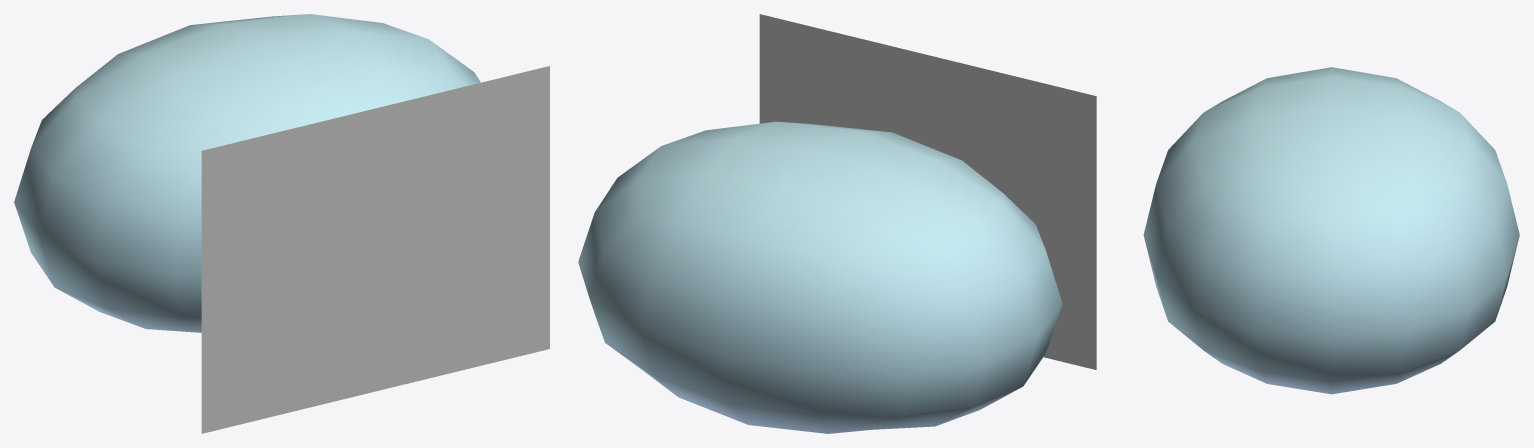
File: Eyes_Blue.fbx
3 views of the same model, side by side, from view 1: azimuth 30°, elevation 25°; view 2: azimuth 150°, elevation 25°; view 3: azimuth 270°, elevation 25° (orthographic). The views are drawn at different scales.
Parts seen in each view (by area): view 1: Eyes_Blue, Blob_Blue; view 2: Blob_Blue, Eyes_Blue; view 3: Blob_Blue.
Part boxes in pixels (x1,y1,x2,y2): Eyes_Blue: (201, 66, 549, 433); Blob_Blue: (14, 14, 480, 332); Blob_Blue: (578, 121, 1062, 433); Eyes_Blue: (759, 14, 1096, 369); Blob_Blue: (1143, 67, 1519, 394).
Bounding box in the file's own units: 1.2 × 0.7199 × 0.9812.
